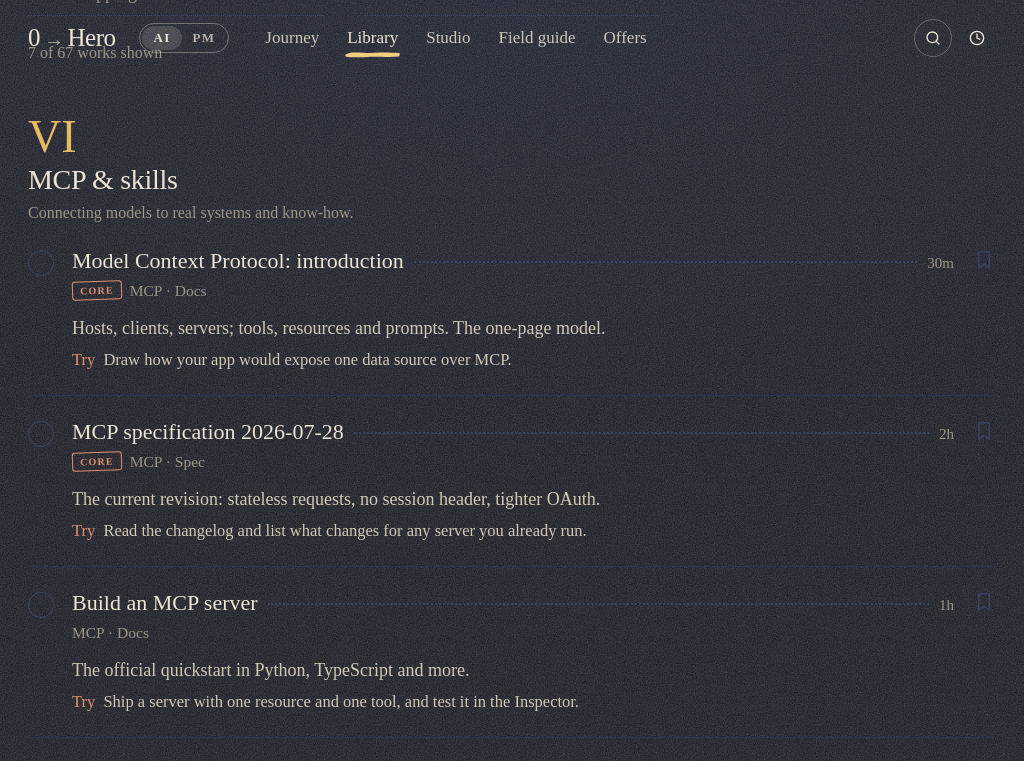
Test: App › persists a read toggle from the library
(page scrolled)
Click the button named "Mark “MCP specification 2026-07-28” as read".
click(41, 434)  # box [28,421,54,447]
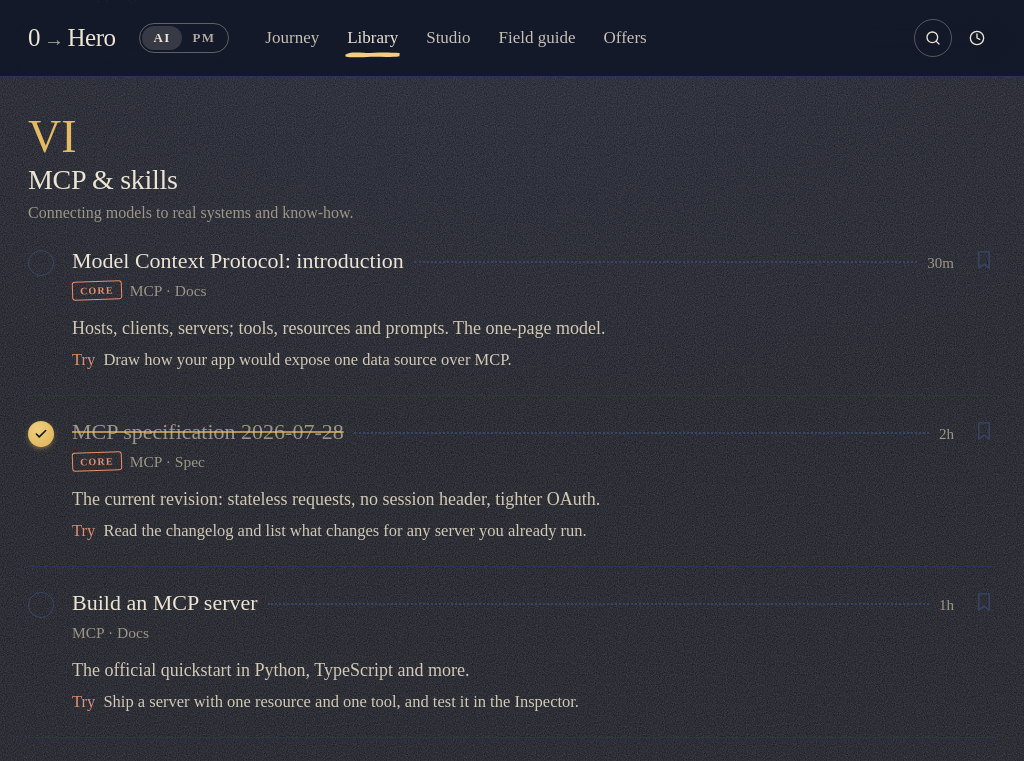
Now the button named "Mark “MCP specification 2026-07-28” as read" is pressed, box [28,421,54,447]
